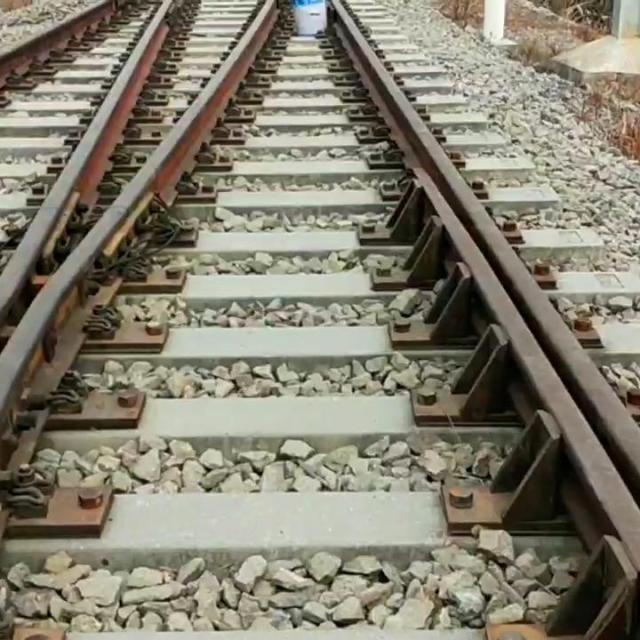rail: (335, 1, 640, 503), (1, 1, 277, 422), (419, 171, 640, 573), (1, 1, 173, 325), (1, 1, 118, 86)
